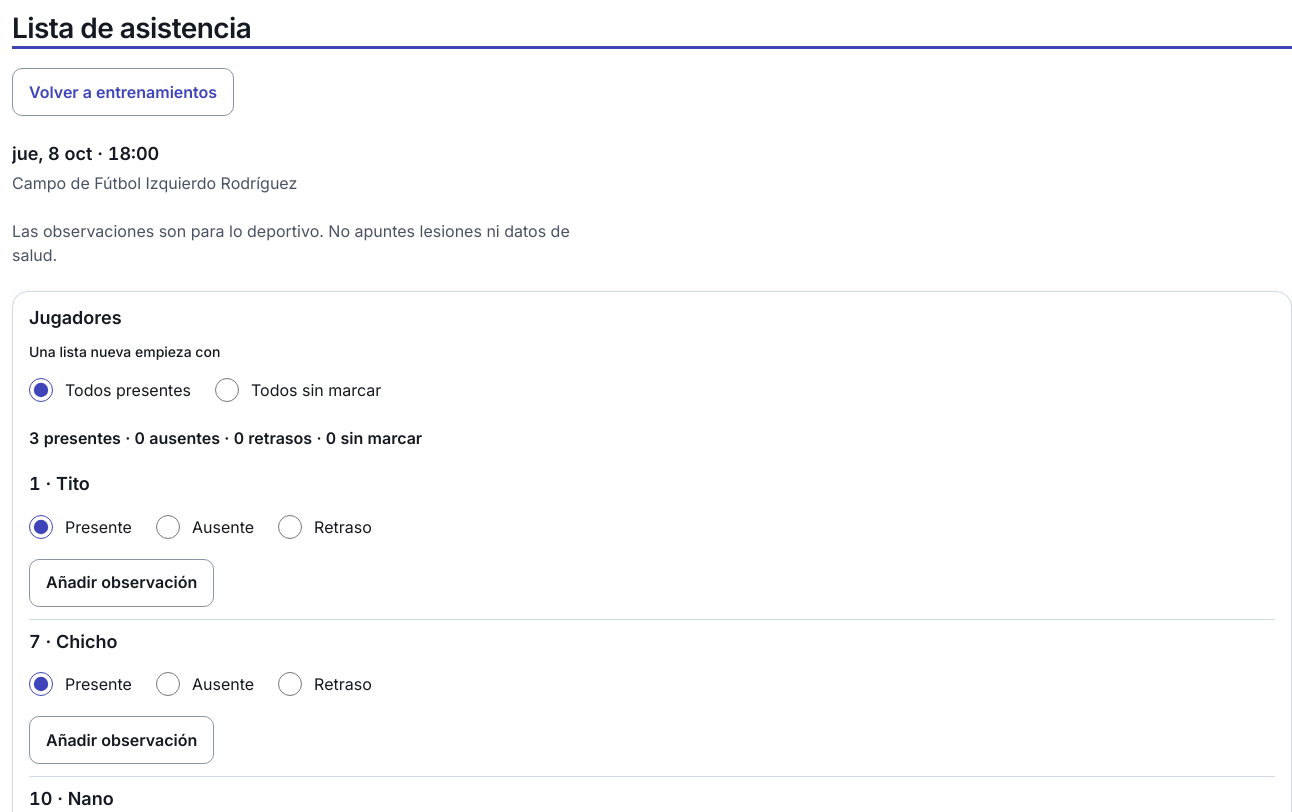
ListaPage · una lista nueva › al cambiar a «Todos sin marcar», los no tocados pierden la marca y el tocado la conserva
Click the radio button labelled "Retraso" below "7 · Chicho" at (290, 684), box [278,672,302,696]
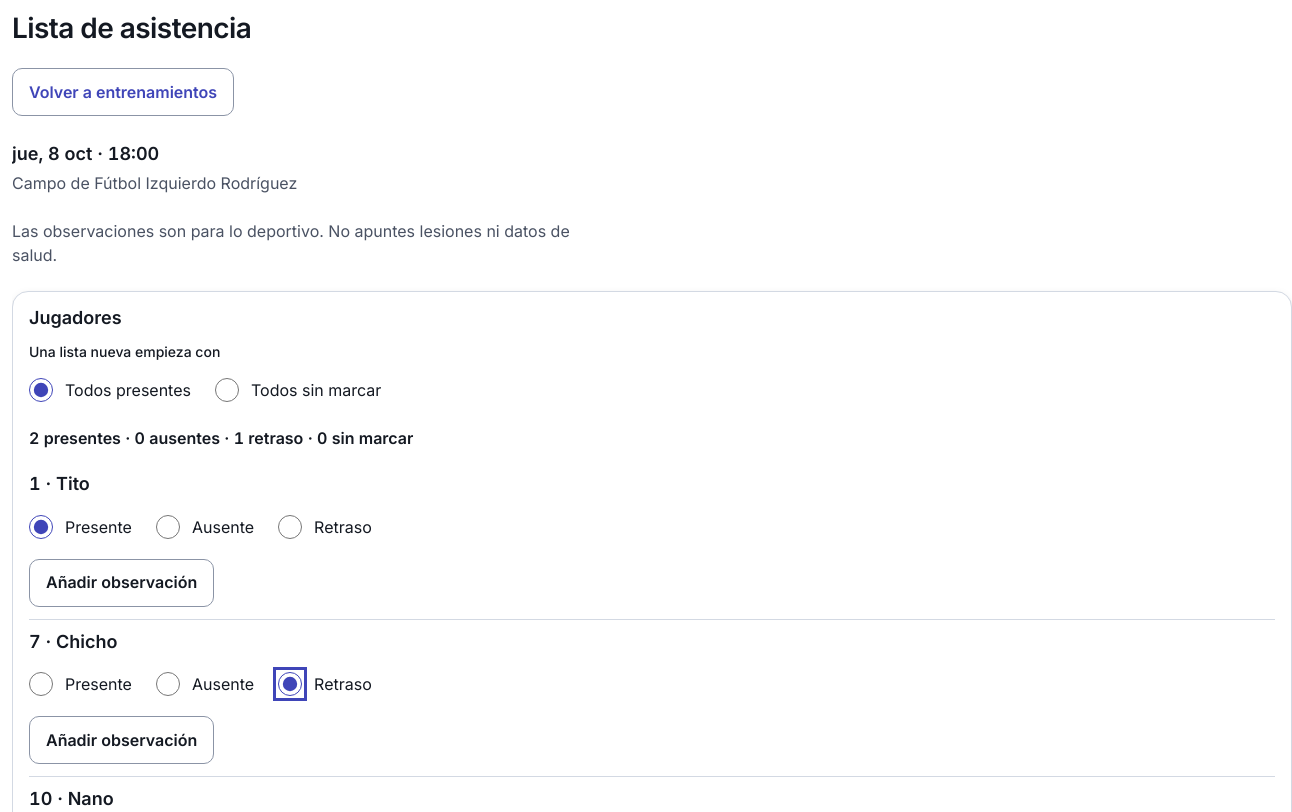
Click the radio button labelled "Todos sin marcar" at (227, 390), box [215,378,239,402]
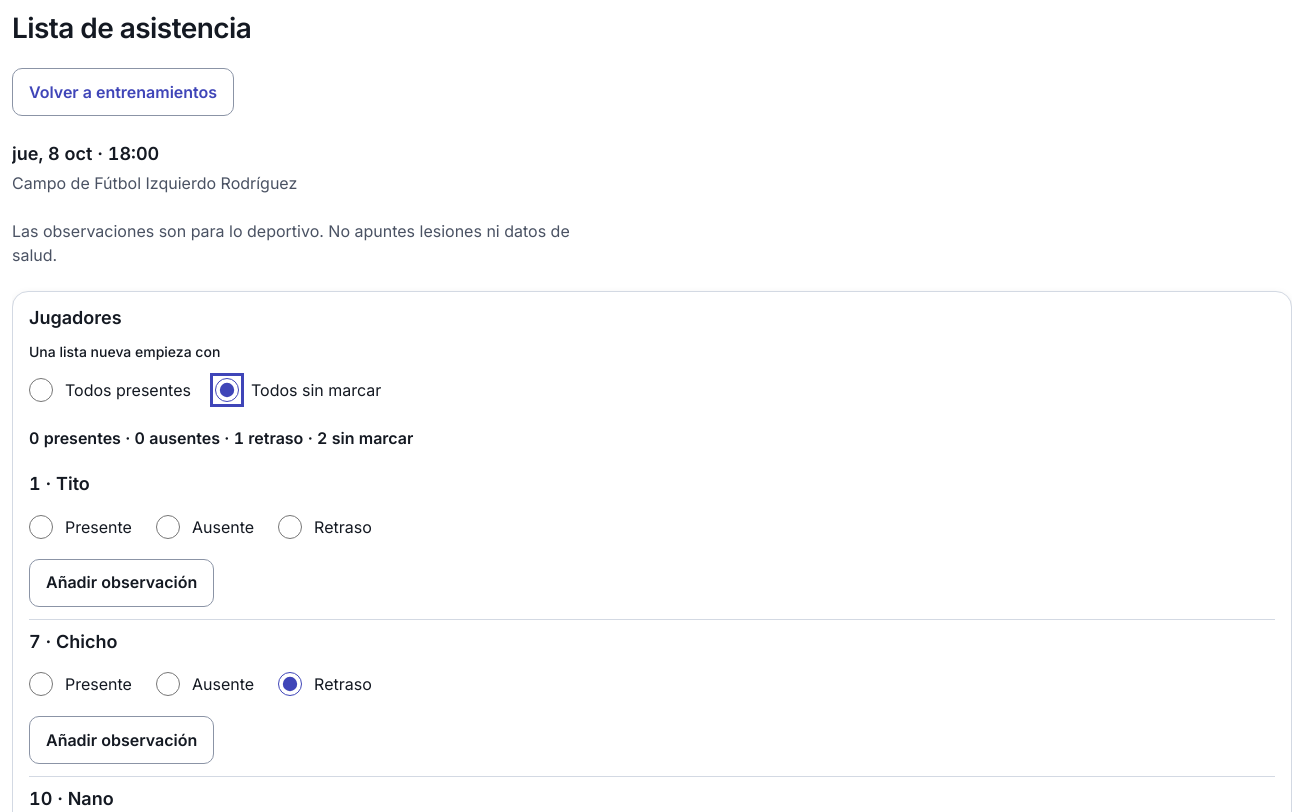
Expected: the text "0 presentes · 0 ausentes · 1 retraso · 2 sin marcar" is shown, [29,428,413,448]
